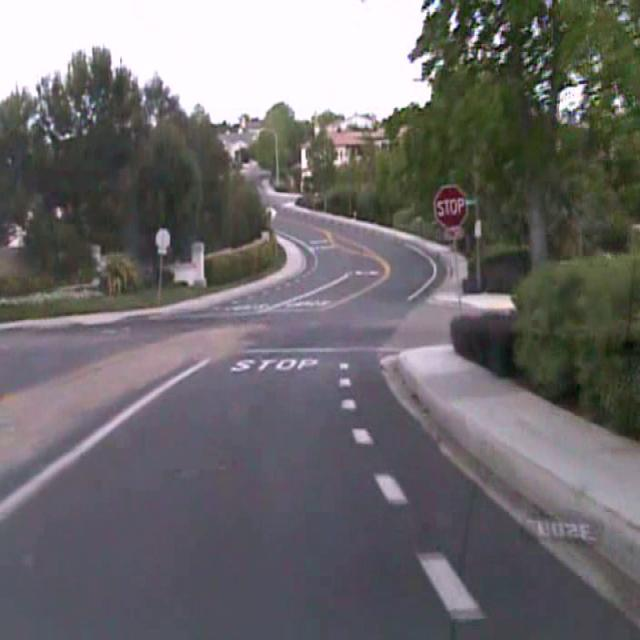stop_sign: (433, 183, 467, 232)
